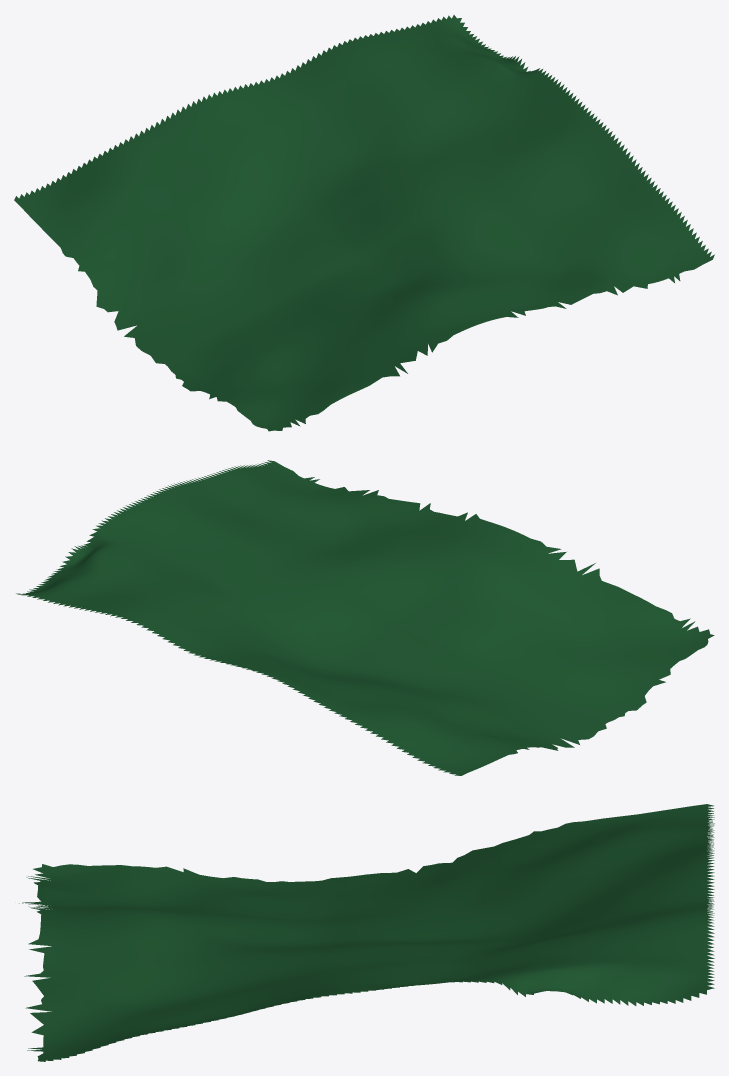
The model's file is payo_land_x2_y2.glb.
The picture shows the model from 3 angles, top to bottom: view 1: azimuth 30°, elevation 25°; view 2: azimuth 150°, elevation 25°; view 3: azimuth 270°, elevation 25°; orthographic projection. The views are drawn at different scales.
Parts seen in each view (by area): view 1: payo_land_x2_y2; view 2: payo_land_x2_y2; view 3: payo_land_x2_y2.
Part boxes in pixels (x1,y1,x2,y2): payo_land_x2_y2: (14,15,714,431); payo_land_x2_y2: (16,460,714,775); payo_land_x2_y2: (19,804,714,1061).
Size of the model in its own units: 262 by 78.02 by 267.
